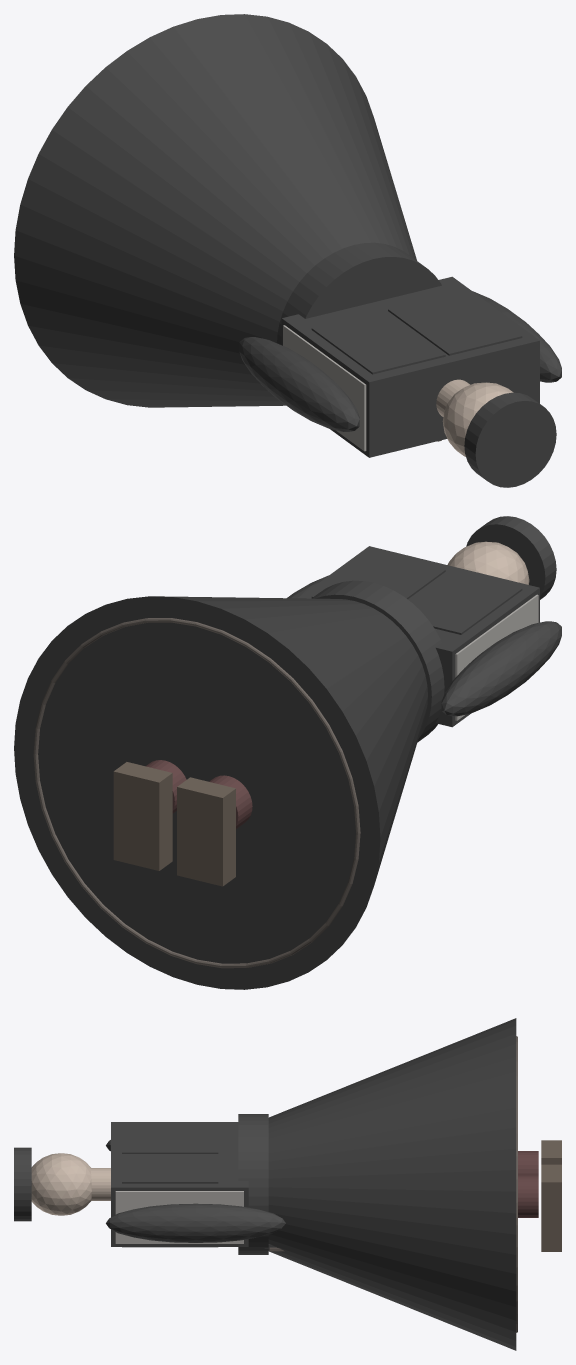
Rendered from MASTER_080_STAGE3_DETAIL.glb.
3 views of the same model, one above another, from view 1: azimuth 30°, elevation 25°; view 2: azimuth 150°, elevation 25°; view 3: azimuth 270°, elevation 25° (orthographic). The views are drawn at different scales.
Visible parts, largest first — view 1: slot_lower_main__fund_i_gjatë, slot_upper_inner__këmishë, slot_waist__brez, slot_headwear__mbulesë_koke, slot_upper_inner_sleeve_L, slot_upper_outer__jelek_R, slot_upper_outer__jelek_L, mannequin_torso, mannequin_head, slot_upper_inner_sleeve_R; view 2: slot_lower_main__fund_i_gjatë, slot_footwear__opinga_R, slot_footwear__opinga_L, slot_upper_inner_sleeve_L, detail_skirt_hem, slot_waist__brez, slot_upper_outer__jelek_L, slot_upper_inner__këmishë, slot_headwear__mbulesë_koke, slot_upper_outer__jelek_R, mannequin_head, mannequin_torso (+2 smaller); view 3: slot_lower_main__fund_i_gjatë, slot_upper_inner_sleeve_R, slot_upper_inner__këmishë, mannequin_head, slot_waist__brez, slot_upper_outer__jelek_R, slot_upper_outer__jelek_L, mannequin_torso, slot_footwear__opinga_R, slot_headwear__mbulesë_koke, slot_legwear__çorape_R, mannequin_neck (+3 smaller).
Boxes of the visible parts, x1,y1,x2,y2 form: slot_lower_main__fund_i_gjatë: (14, 14, 416, 407); slot_upper_inner__këmishë: (281, 276, 539, 457); slot_waist__brez: (277, 242, 441, 344); slot_headwear__mbulesë_koke: (464, 392, 556, 487); slot_upper_inner_sleeve_L: (239, 337, 359, 431); slot_upper_outer__jelek_R: (388, 291, 522, 355); slot_upper_outer__jelek_L: (311, 310, 445, 374); mannequin_torso: (283, 325, 366, 451); mannequin_head: (442, 382, 513, 456); slot_upper_inner_sleeve_R: (472, 291, 561, 382); slot_lower_main__fund_i_gjatë: (14, 596, 427, 989); slot_footwear__opinga_R: (113, 762, 172, 870); slot_footwear__opinga_L: (177, 777, 235, 886); slot_upper_inner_sleeve_L: (441, 621, 561, 716); detail_skirt_hem: (33, 618, 360, 968); slot_waist__brez: (312, 580, 444, 742); slot_upper_outer__jelek_L: (409, 570, 522, 634); slot_upper_inner__këmishë: (298, 546, 539, 727); slot_headwear__mbulesë_koke: (466, 516, 556, 599); slot_upper_outer__jelek_R: (311, 552, 445, 599); mannequin_head: (447, 541, 529, 584); mannequin_torso: (455, 594, 538, 720); slot_lower_main__fund_i_gjatë: (268, 1018, 516, 1350); slot_upper_inner_sleeve_R: (106, 1203, 285, 1242); slot_upper_inner__këmishë: (111, 1122, 248, 1246); mannequin_head: (31, 1153, 91, 1215); slot_waist__brez: (238, 1114, 268, 1254); slot_upper_outer__jelek_R: (122, 1154, 218, 1247); slot_upper_outer__jelek_L: (122, 1124, 218, 1153); mannequin_torso: (115, 1191, 243, 1243); slot_footwear__opinga_R: (541, 1164, 561, 1251); slot_headwear__mbulesë_koke: (14, 1147, 31, 1221); slot_legwear__çorape_R: (518, 1175, 538, 1217); mannequin_neck: (91, 1168, 110, 1200).
Size of the model in its own units: 1.04 by 1.04 by 1.71.
